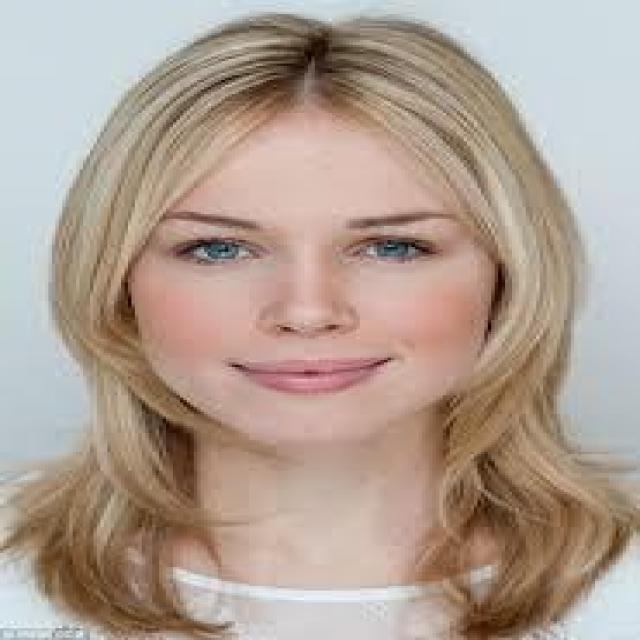person: (0, 12, 633, 638)
